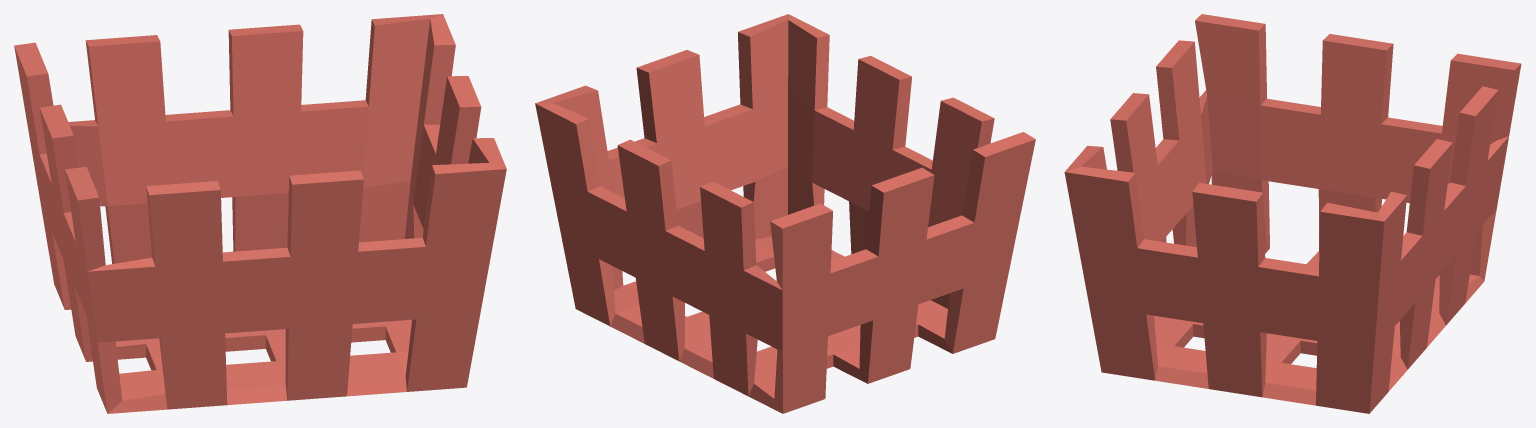
Rendered from basket.fbx.
The picture shows the model from 3 angles, left to right: view 1: azimuth 30°, elevation 25°; view 2: azimuth 150°, elevation 25°; view 3: azimuth 270°, elevation 25°; orthographic projection. The views are drawn at different scales.
Parts seen in each view (by area): view 1: Cube.014; view 2: Cube.014; view 3: Cube.014.
Boxes of the visible parts, bbox=[...] form: Cube.014: bbox=[14, 14, 506, 413]; Cube.014: bbox=[535, 14, 1035, 413]; Cube.014: bbox=[1064, 14, 1521, 413].
Bounding box in the file's own units: 368 × 175 × 343.
